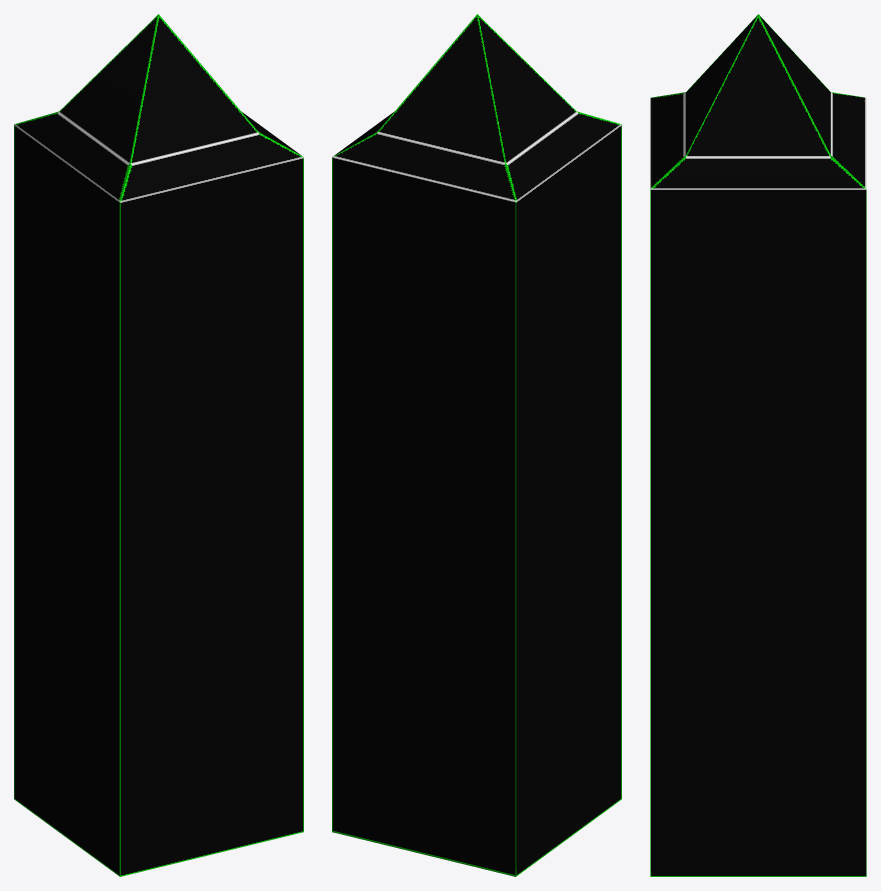
Rendered from Pointed_Tower.fbx.
3 renders of one model, left to right at view 1: azimuth 30°, elevation 25°; view 2: azimuth 150°, elevation 25°; view 3: azimuth 270°, elevation 25°, orthographic.
Visible parts, largest first — view 1: Pointed_Tower; view 2: Pointed_Tower; view 3: Pointed_Tower.
Part boxes in pixels (x1,y1,x2,y2): Pointed_Tower: (14, 14, 303, 876); Pointed_Tower: (332, 14, 621, 876); Pointed_Tower: (650, 14, 866, 876).
Size of what is drawn, in the model's own units: 1 by 4.17 by 1.
1 material, 1 textured.
